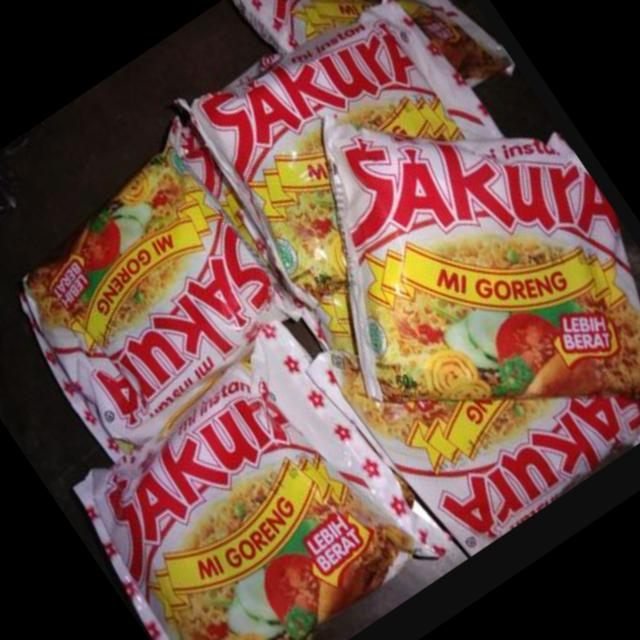KemasanPlastik: (222, 14, 640, 519), (57, 319, 465, 640), (162, 0, 536, 315), (0, 115, 317, 459)
